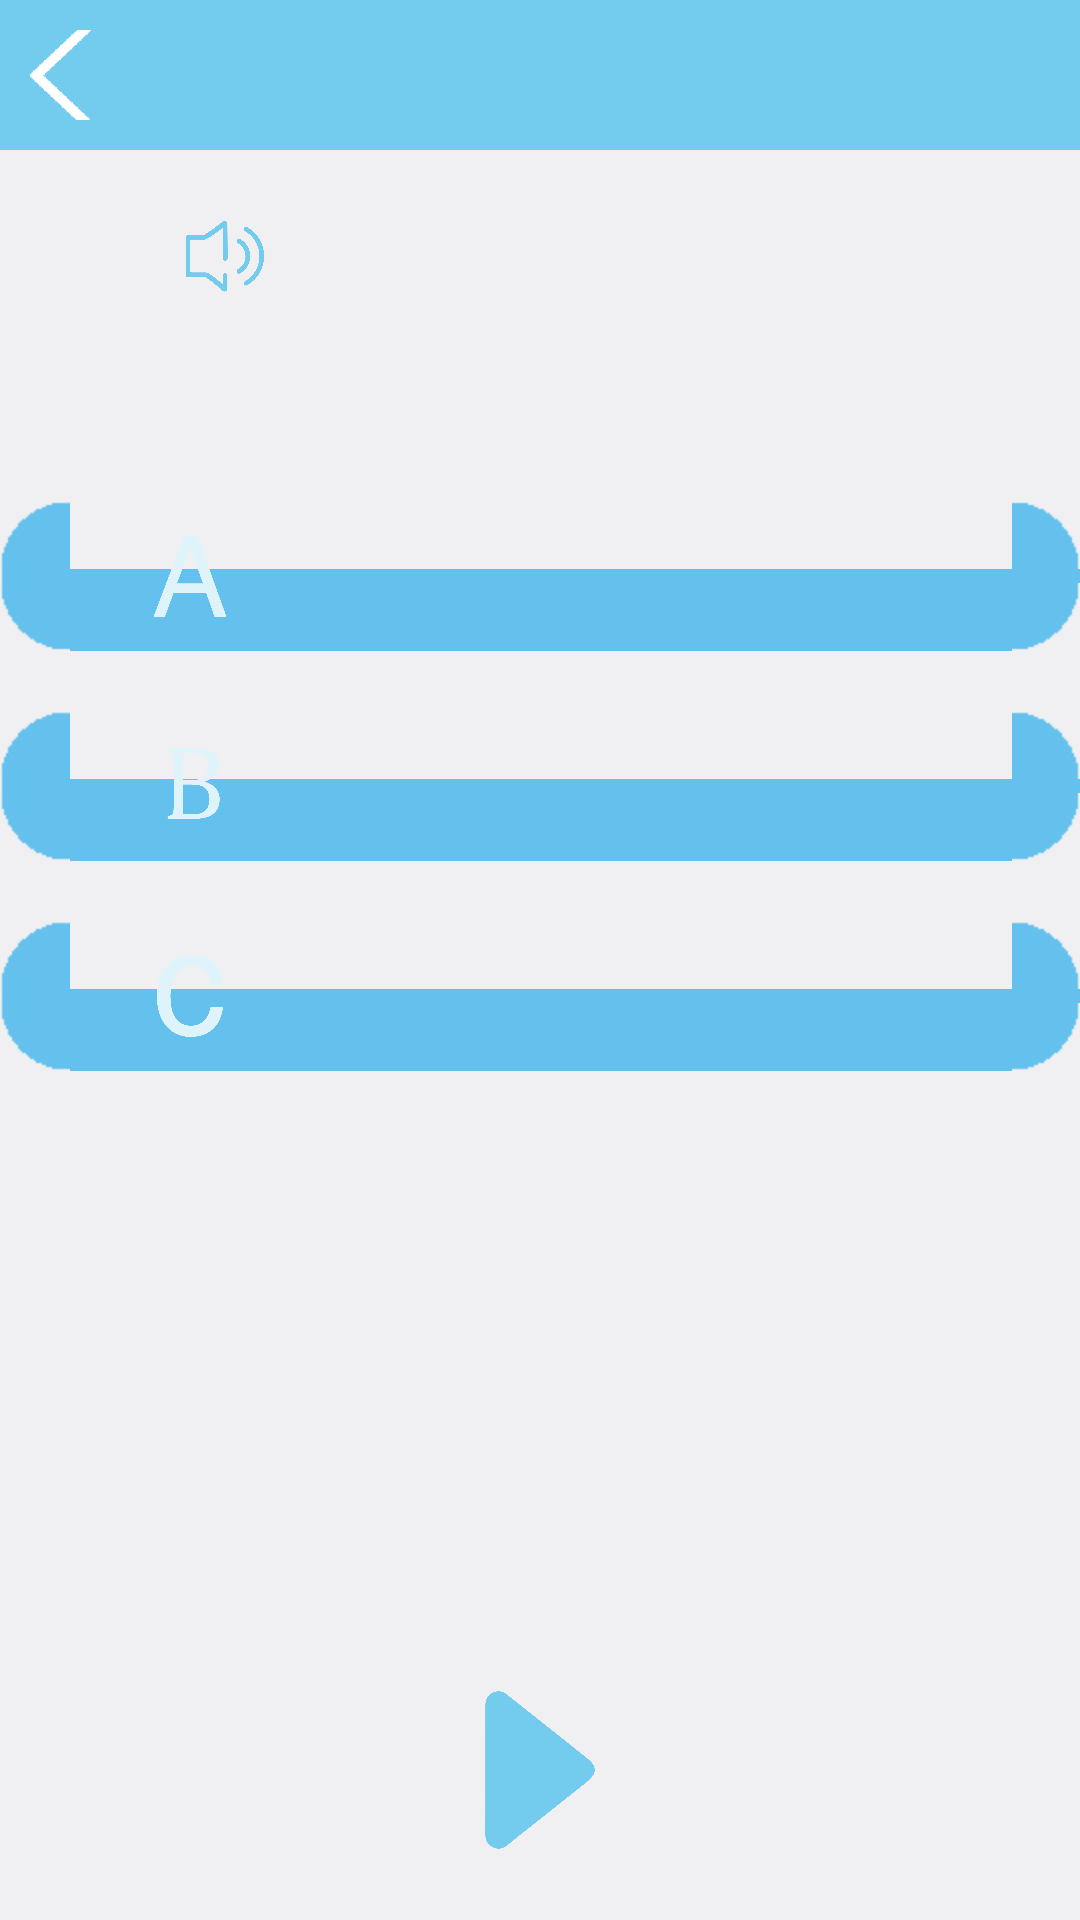

Where to tap for icons on this 1080×1920 app screen, as (x,y):
horn: (225,256)
next: (540,1770)
